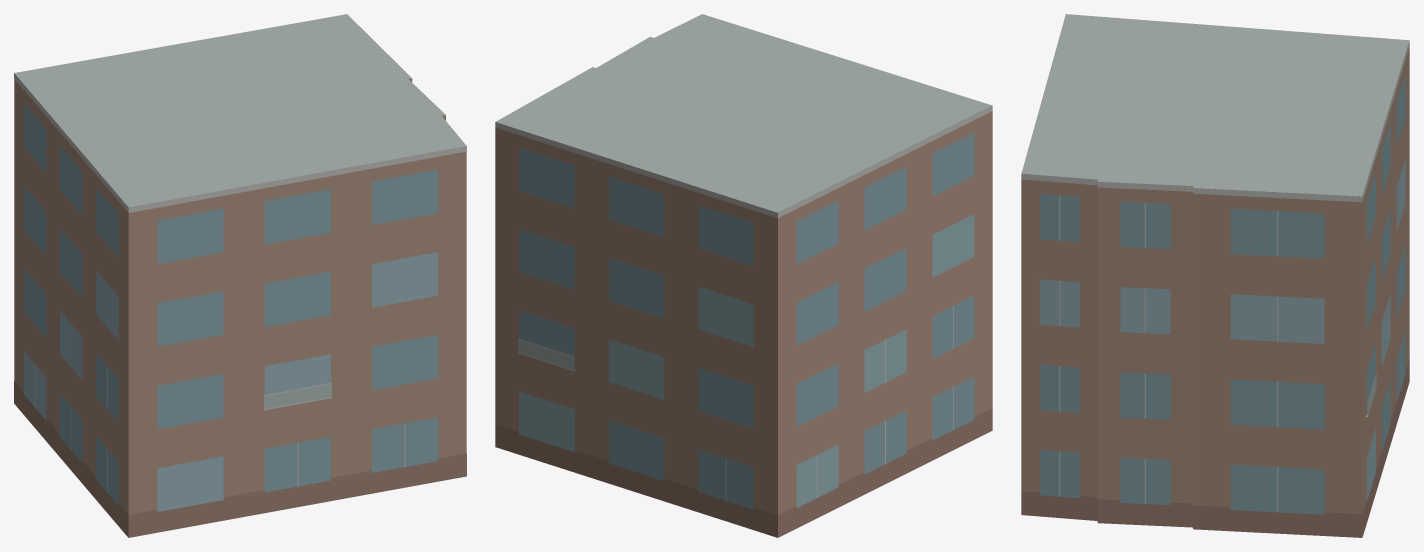
File: survey-upis-32839527.glb
3 renders of one model, left to right at view 1: azimuth 30°, elevation 25°; view 2: azimuth 150°, elevation 25°; view 3: azimuth 270°, elevation 25°, orthographic. The views are drawn at different scales.
Visible parts, largest first — view 1: survey-upis-32839527.tmp; view 2: survey-upis-32839527.tmp; view 3: survey-upis-32839527.tmp.
Part boxes in pixels (x1,y1,x2,y2): survey-upis-32839527.tmp: [14, 14, 466, 537]; survey-upis-32839527.tmp: [495, 14, 992, 537]; survey-upis-32839527.tmp: [1021, 14, 1409, 537].
Size of the model in its own units: 16.64 by 14.5 by 14.96.
